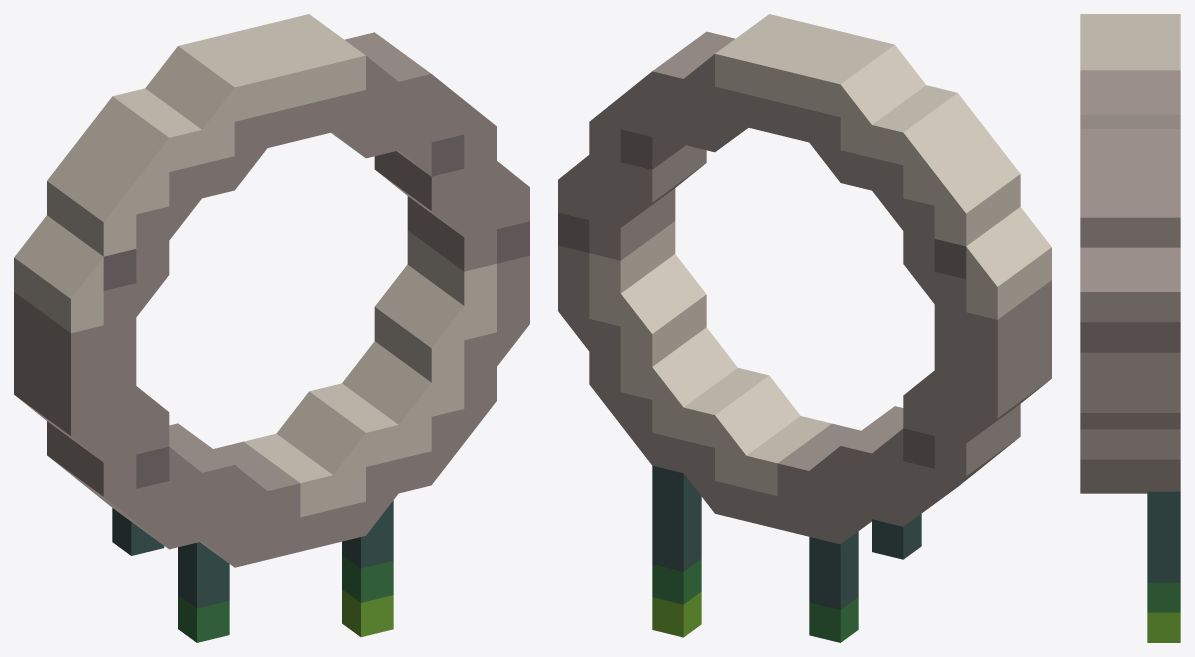
Rendered from pipe-hole.glb.
3 views of the same model, side by side, from view 1: azimuth 30°, elevation 25°; view 2: azimuth 150°, elevation 25°; view 3: azimuth 270°, elevation 25° (orthographic). The views are drawn at different scales.
Parts seen in each view (by area): view 1: generated(Clone); view 2: generated(Clone); view 3: generated(Clone).
Boxes of the visible parts, <box> form: generated(Clone): <box>14,14,529,642</box>; generated(Clone): <box>558,14,1051,642</box>; generated(Clone): <box>1080,14,1180,642</box>.
Size of the model in its own units: 14 by 18 by 3.
1 material, 1 textured.
